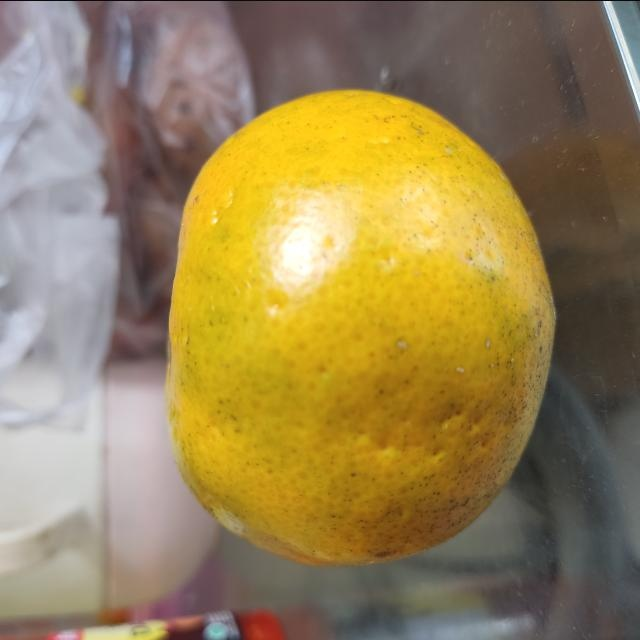agrume: (164, 87, 556, 563)
